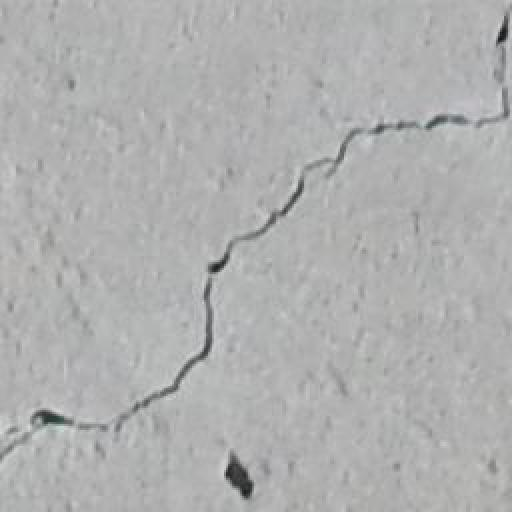spalling: (4, 11, 512, 480)
